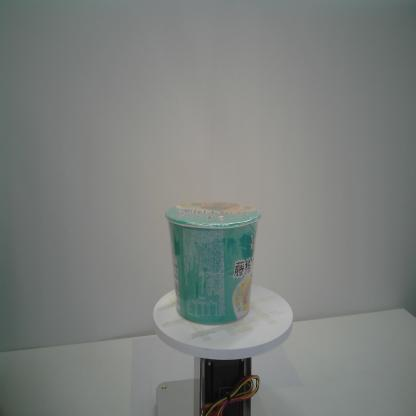Instant Noodles: (164, 197, 263, 327)
